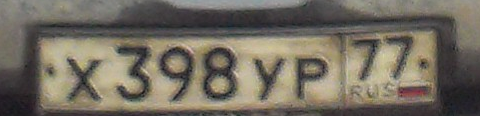character: (157, 41, 198, 106), (203, 41, 244, 103), (114, 42, 156, 101), (64, 53, 105, 106), (293, 50, 332, 102), (252, 51, 287, 103), (349, 35, 384, 84), (383, 31, 414, 80)
